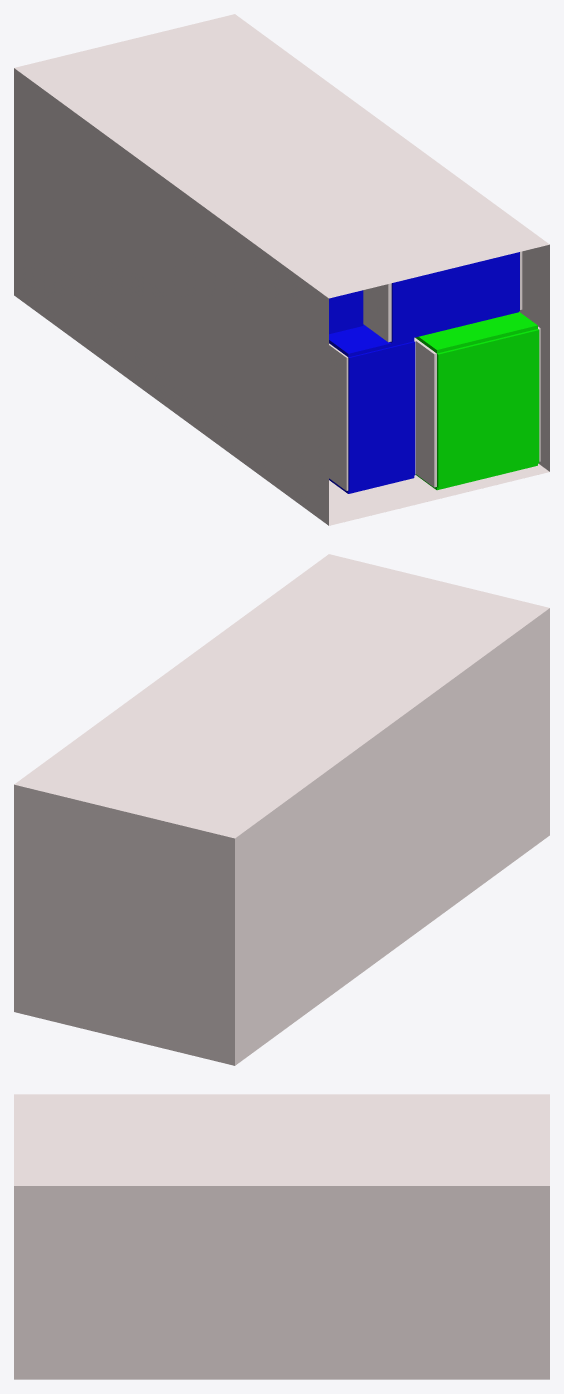
File: Boxes_31.fbx
The picture shows the model from 3 angles, top to bottom: view 1: azimuth 30°, elevation 25°; view 2: azimuth 150°, elevation 25°; view 3: azimuth 270°, elevation 25°; orthographic projection. The views are drawn at different scales.
Visible parts, largest first — view 1: bintop, BinIso20Bottom, binleft, front_3, front_6, front_10, binbottom, top_3, top_6, front_13; view 2: BinIso20Bottom, bintop, binback; view 3: BinIso20Bottom, binright, bintop.
Boxes of the visible parts, <box> form: bintop: <box>14,14,549,298</box>; BinIso20Bottom: <box>14,74,549,525</box>; binleft: <box>14,68,324,515</box>; front_3: <box>437,329,539,487</box>; front_6: <box>348,341,415,491</box>; front_10: <box>391,252,519,342</box>; binbottom: <box>329,463,549,525</box>; top_3: <box>415,312,537,353</box>; top_6: <box>329,324,414,357</box>; front_13: <box>329,290,363,334</box>; BinIso20Bottom: <box>235,608,549,1065</box>; bintop: <box>14,554,549,838</box>; binback: <box>14,784,234,1065</box>; BinIso20Bottom: <box>14,1186,549,1379</box>; binright: <box>14,1192,549,1379</box>; bintop: <box>14,1094,549,1185</box>.
Size of the model in its own units: 2390 by 2350 by 5900.
